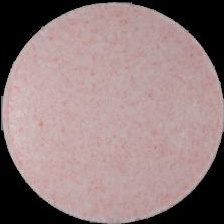54868-6447: (0, 0, 224, 224)
